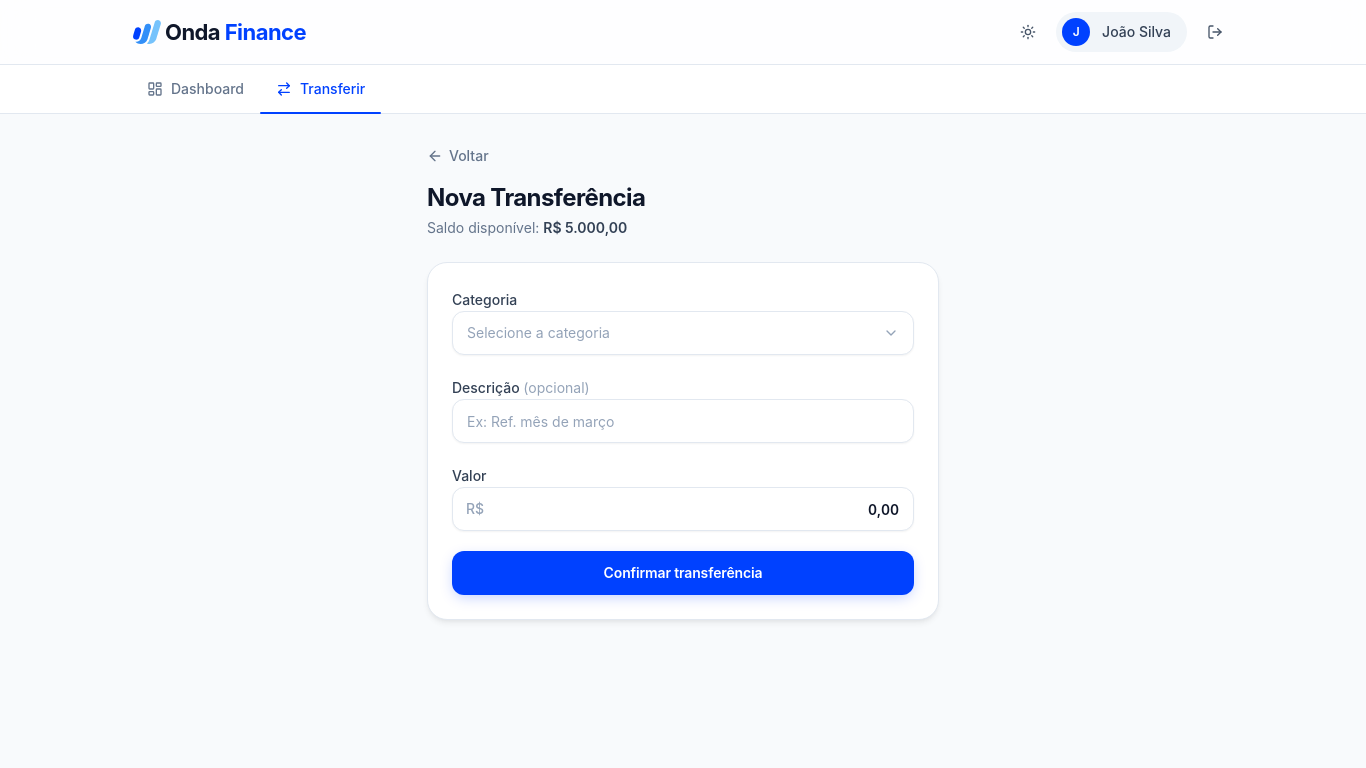
Test case: Transfer Page › should open dropdown and show category options with icons
The image size is (1366, 768).
Click the dropdown labelled "Selecione a categoria" at (538, 332), box [452,311,914,355]
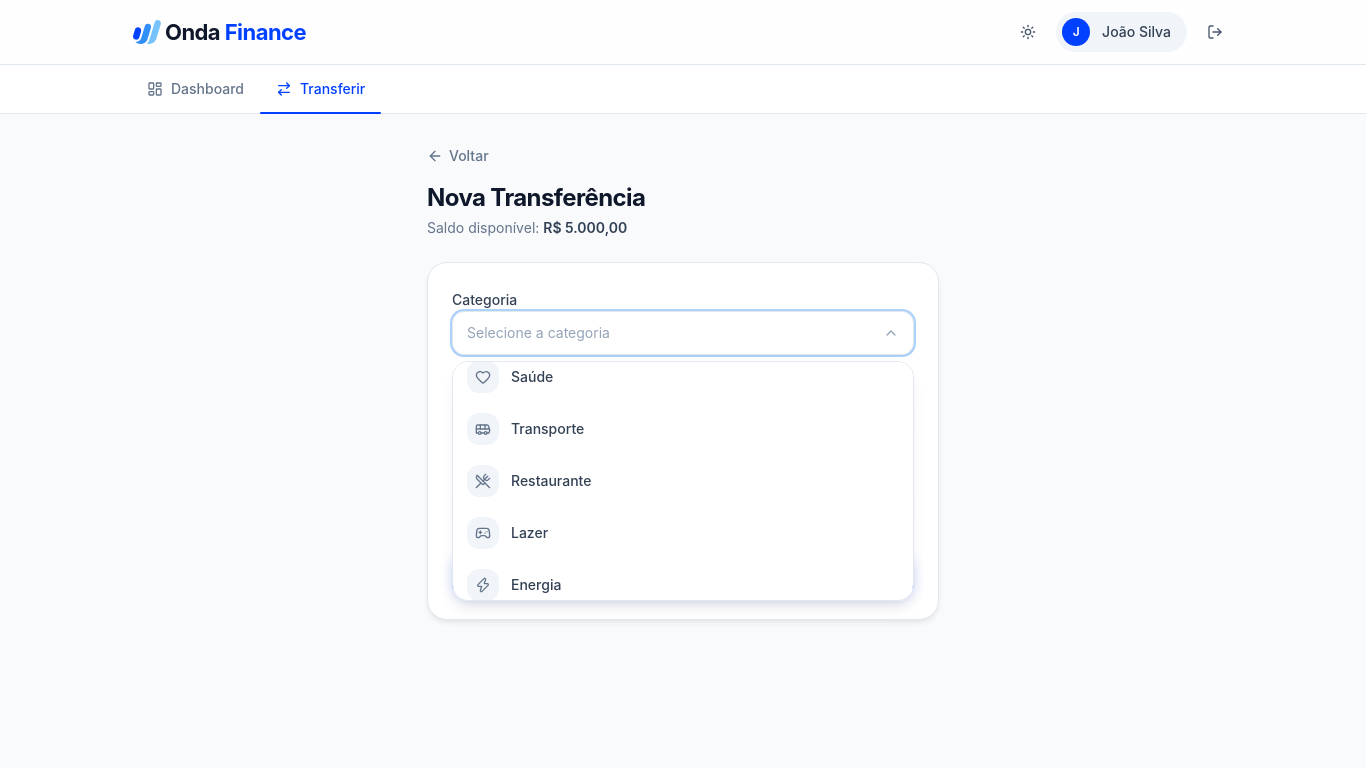
Expected: the option "Restaurante" is shown, [467,465,591,497]
